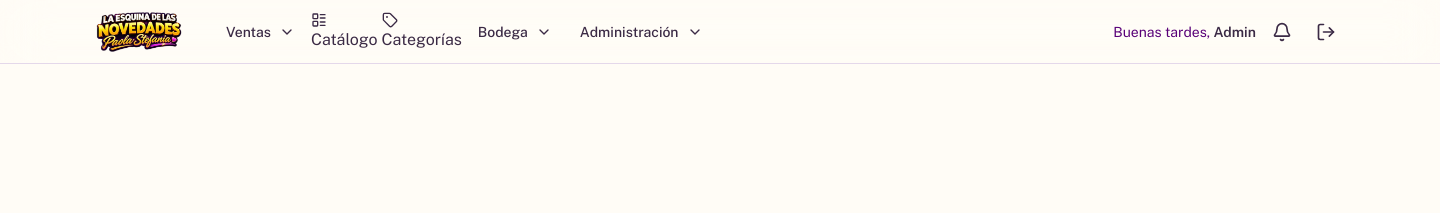
TopNav — flag registro_notas_bodega_ui=false › dropdown Bodega › NO contiene Registro de Notas cuando flag=false
Hover over the button "Bodega": (515, 32) [466,14,564,50]
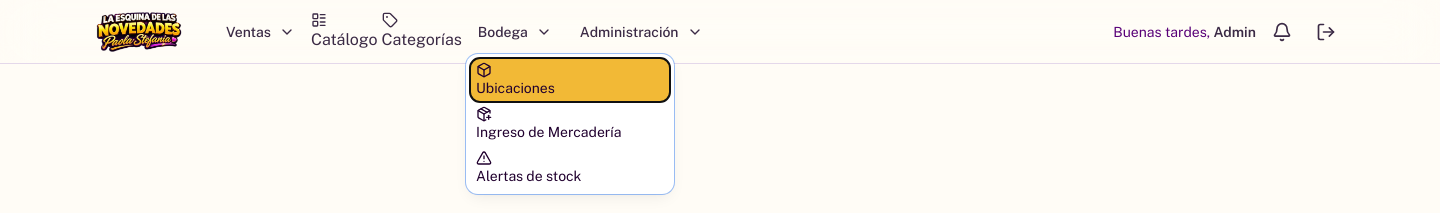
Now the link "Ubicaciones" is shown, box [476,62,555,98]
